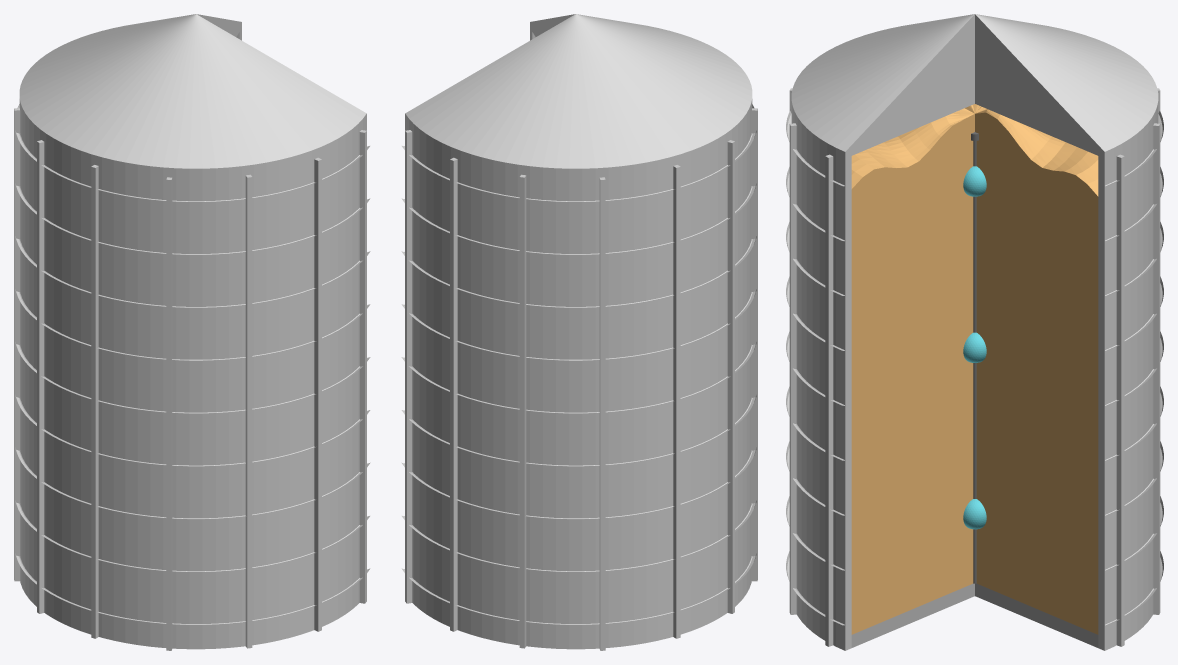
File: silo_cutaway (18).glb
3 views of the same model, side by side, from view 1: azimuth 30°, elevation 25°; view 2: azimuth 150°, elevation 25°; view 3: azimuth 270°, elevation 25° (orthographic). The views are drawn at different scales.
Parts seen in each view (by area): view 1: Silo.Cutaway; view 2: Silo.Cutaway; view 3: Grain_Volume, Silo.Cutaway, Silo.Cutaway_Floor, Sensor_Cable, Sensor.002, Sensor.001, Sensor.003.
Part boxes in pixels (<box>): Silo.Cutaway: <box>14,14,370,650</box>; Silo.Cutaway: <box>401,14,757,650</box>; Grain_Volume: <box>851,104,1098,634</box>; Silo.Cutaway: <box>786,14,1163,650</box>; Silo.Cutaway_Floor: <box>851,583,1098,647</box>; Sensor_Cable: <box>973,141,976,583</box>; Sensor.002: <box>963,332,986,362</box>; Sensor.001: <box>963,166,986,196</box>; Sensor.003: <box>963,499,986,529</box>.
Size of what is drawn, in the model's own units: 1.76 by 3.5 by 2.06.
